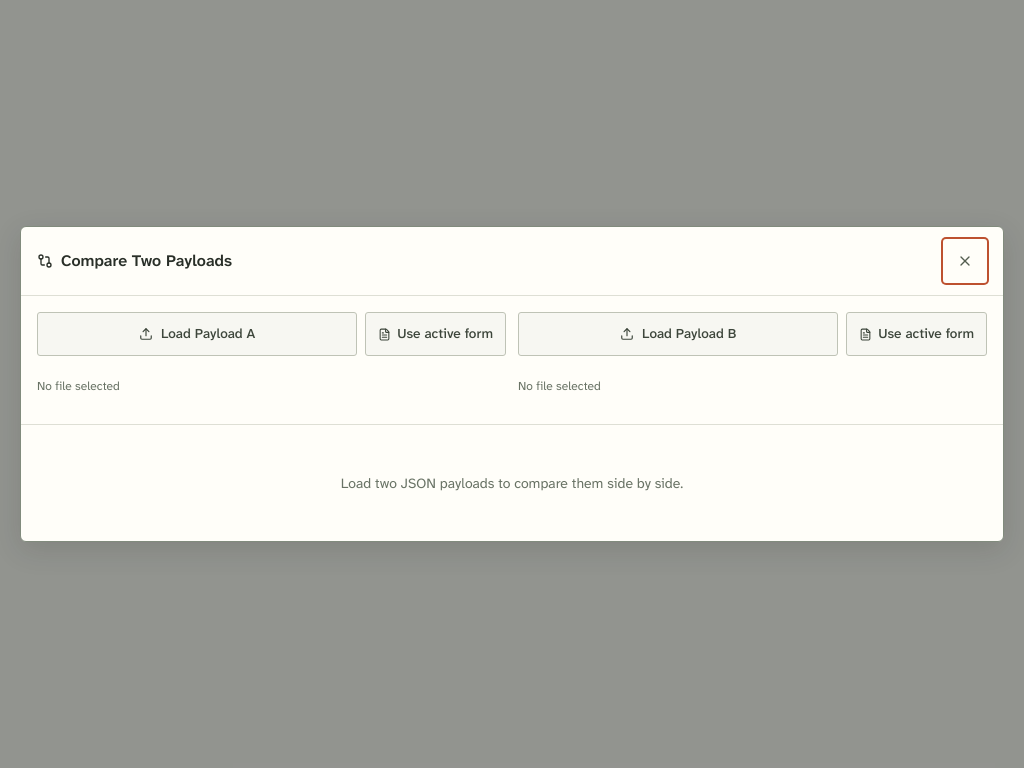
Test: CompareView clear payload › loads active form data into comparison side
Click the button with aria-label "Use active form for payload A" at (436, 334), box [365,312,506,356]
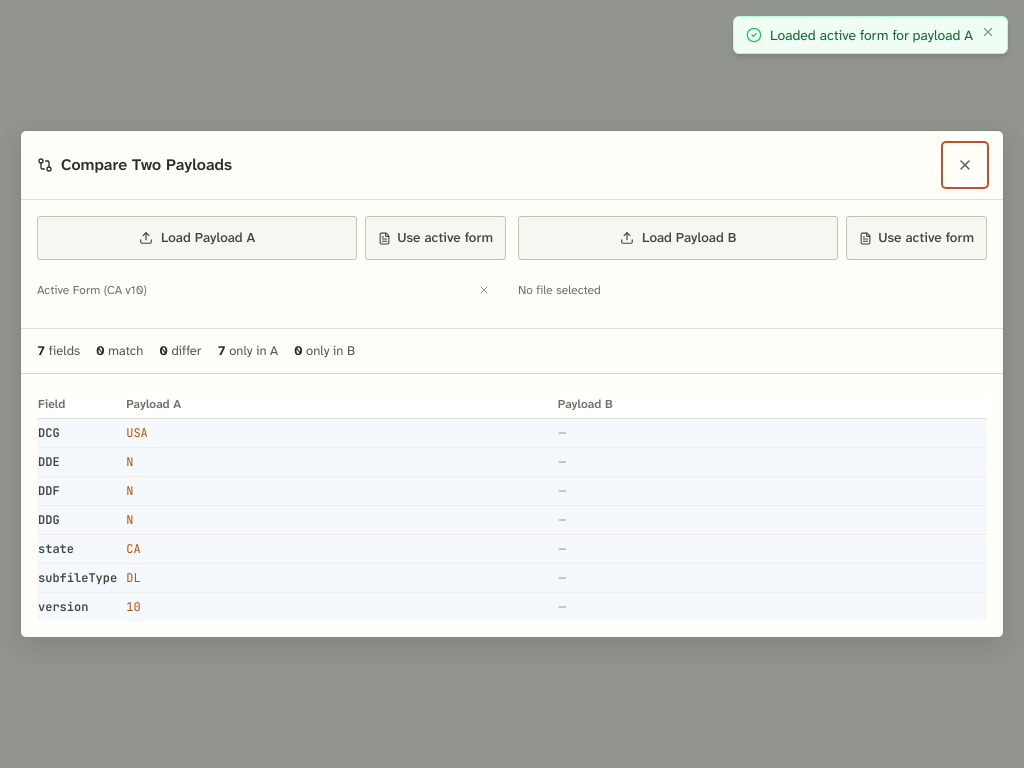
Now the text "Active Form (CA v10)" is shown, box [37,282,147,298]
Now the button named "Clear payload A" is shown, box [462,268,506,312]
